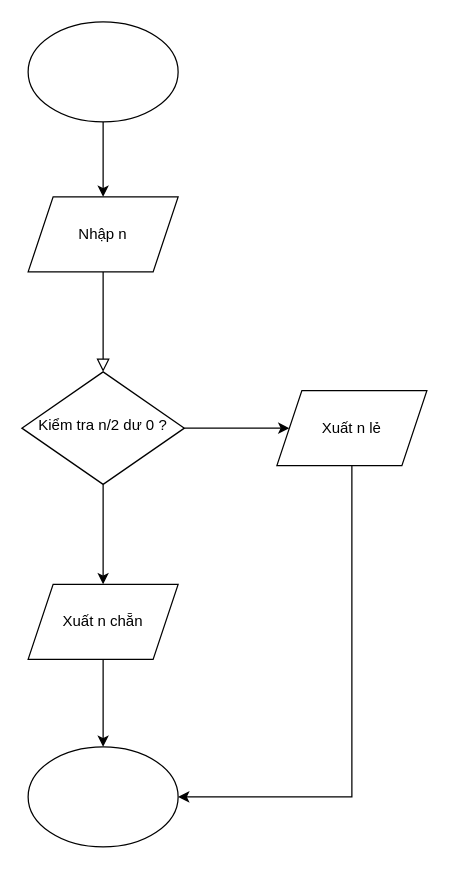
Some shapes in this 449 by 869 pixel diagram are drawn without their labels. The centre of each missing label's shape, as x and y in pixels:
Bắt đầu: the point at 102,71
Kết thúc: the point at 102,796
